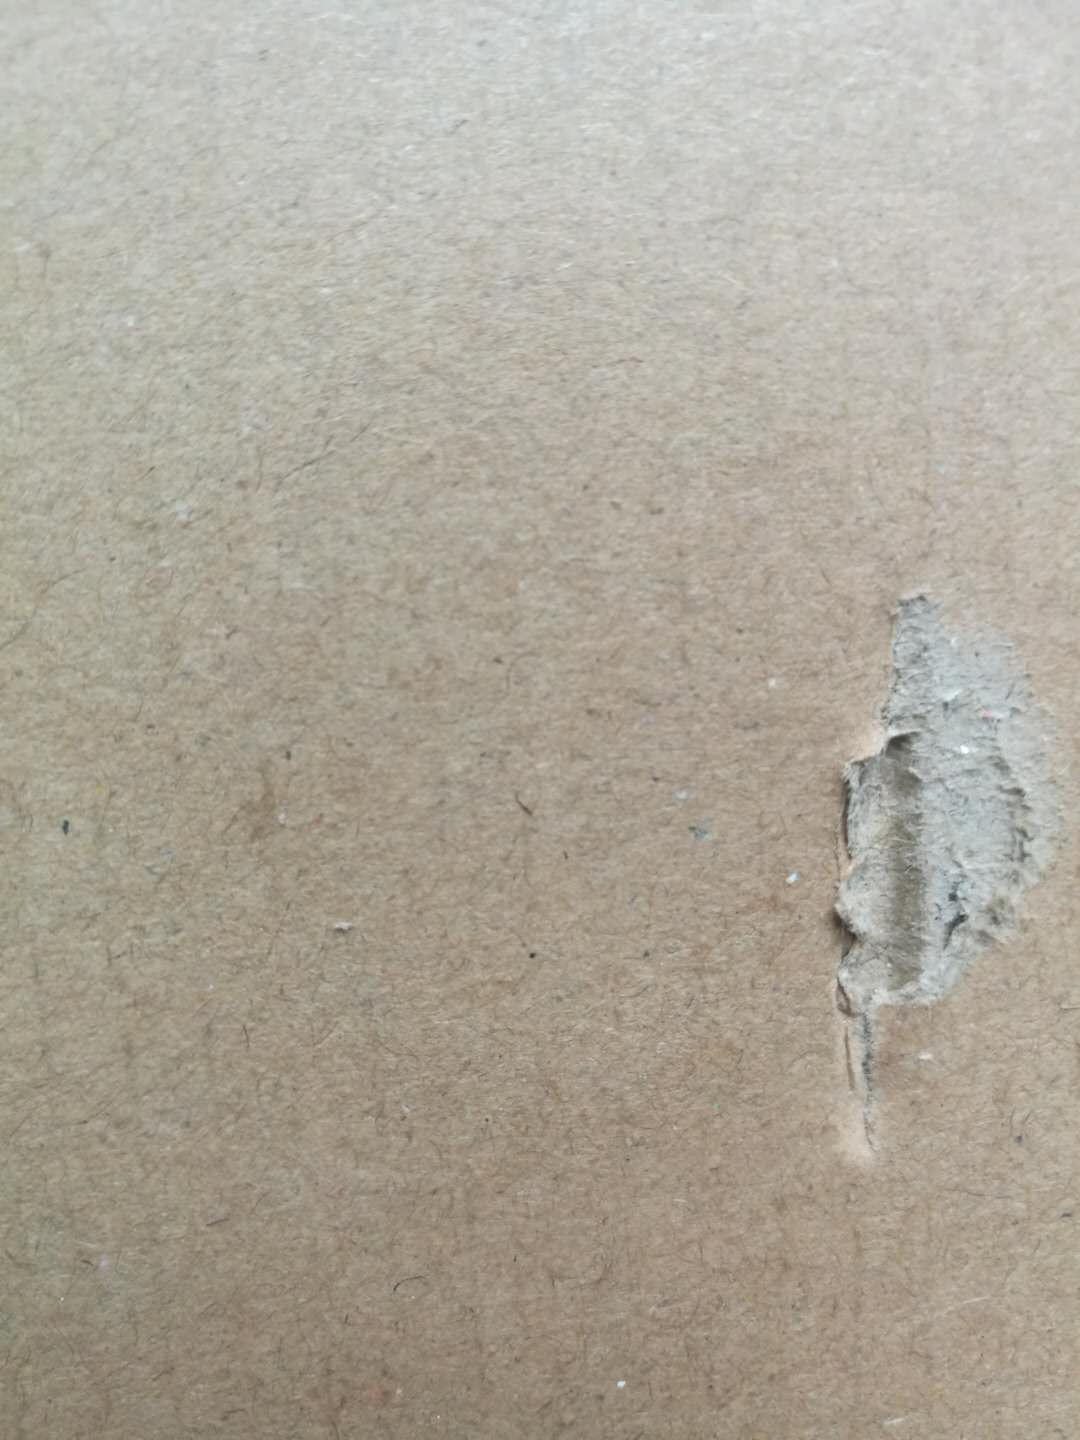defect: (774, 554, 1080, 1210)
